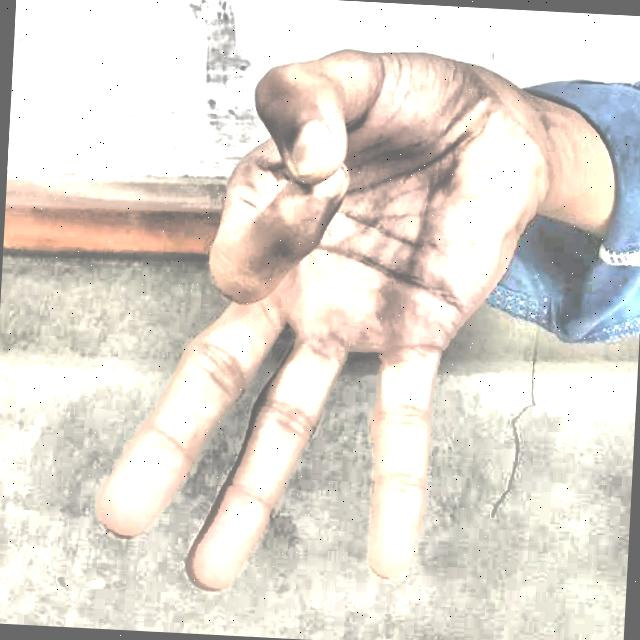Fa: (79, 24, 585, 622)
